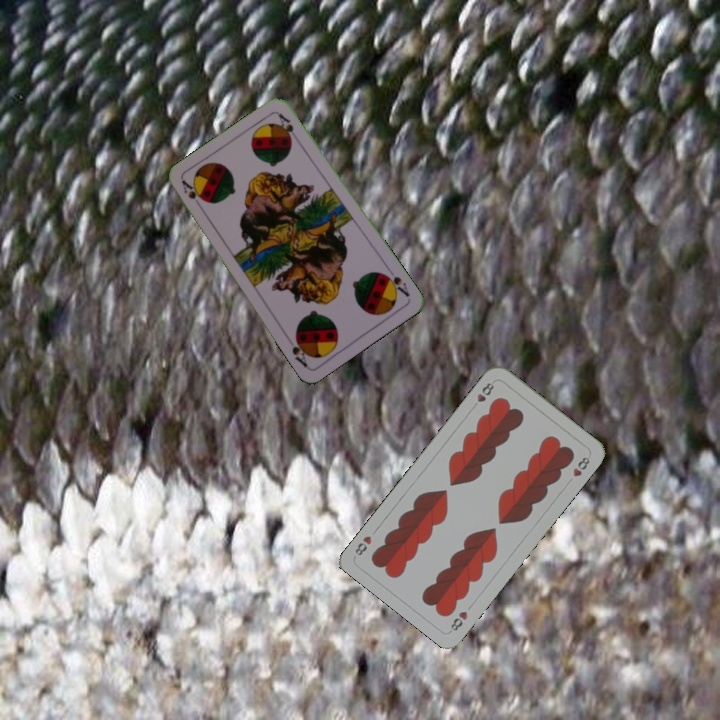H8: (473, 377, 497, 405), (446, 607, 470, 635)
SA: (178, 176, 206, 213), (379, 269, 412, 299)
